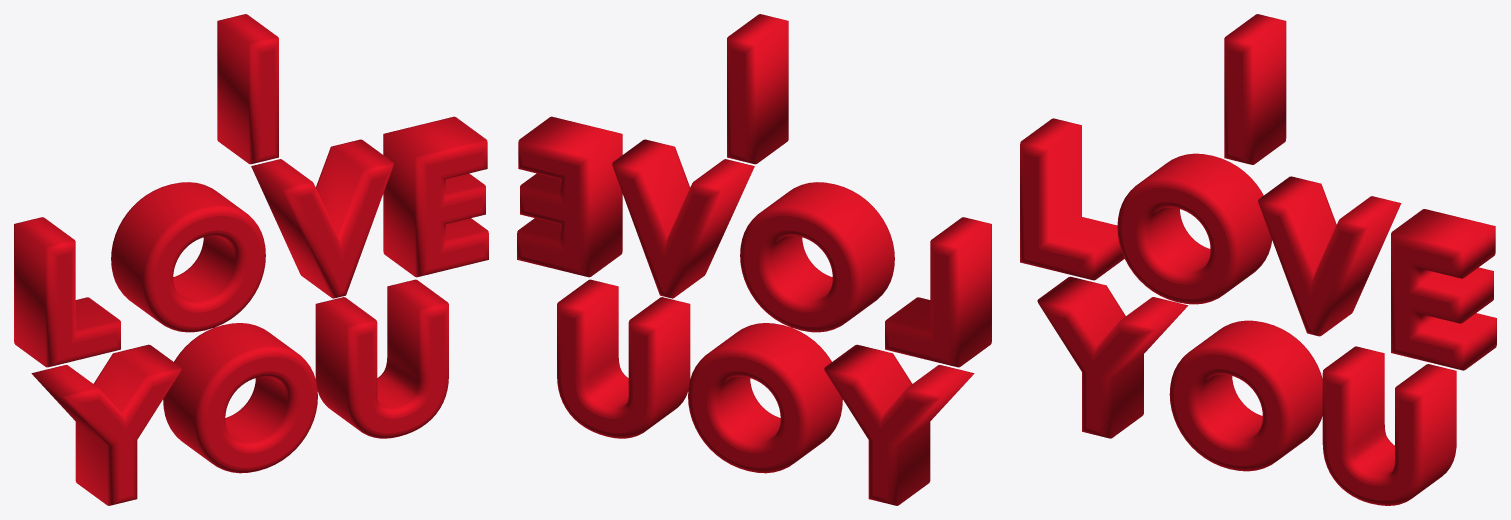
Rendered from ily.gltf.
The picture shows the model from 3 angles, left to right: view 1: azimuth 30°, elevation 25°; view 2: azimuth 150°, elevation 25°; view 3: azimuth 330°, elevation 25°; orthographic projection.
Parts seen in each view (by area): view 1: Text; view 2: Text; view 3: Text.
Part boxes in pixels (<box>): Text: <box>14,14,488,505</box>; Text: <box>517,14,991,505</box>; Text: <box>1020,14,1496,505</box>.
Bounding box in the file's own units: 3.01 × 2.79 × 0.46.
